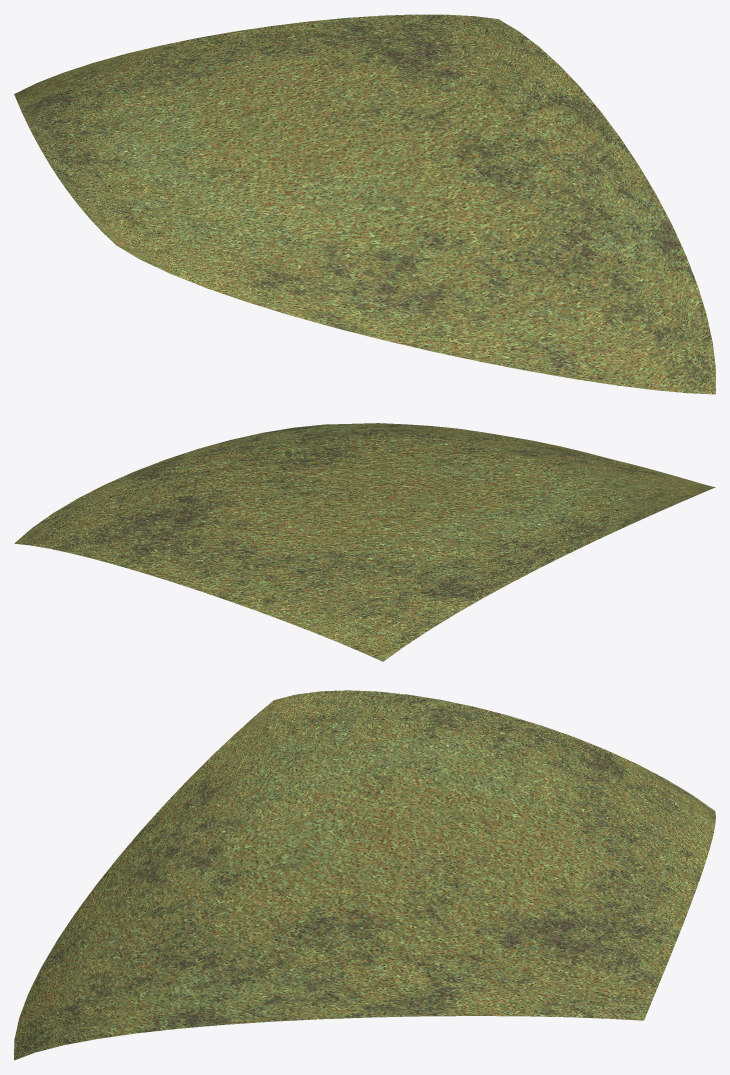
3 views of the same model, one above another, from view 1: azimuth 30°, elevation 25°; view 2: azimuth 150°, elevation 25°; view 3: azimuth 270°, elevation 25° (orthographic). The views are drawn at different scales.
Visible parts, largest first — view 1: SurfPatch; view 2: SurfPatch; view 3: SurfPatch.
Boxes of the visible parts, x1,y1,x2,y2 form: SurfPatch: [14, 14, 715, 394]; SurfPatch: [14, 423, 715, 661]; SurfPatch: [14, 690, 715, 1060].
Bounding box in the file's own units: 3.82 × 1.08 × 4.26.
1 material, 1 textured.
